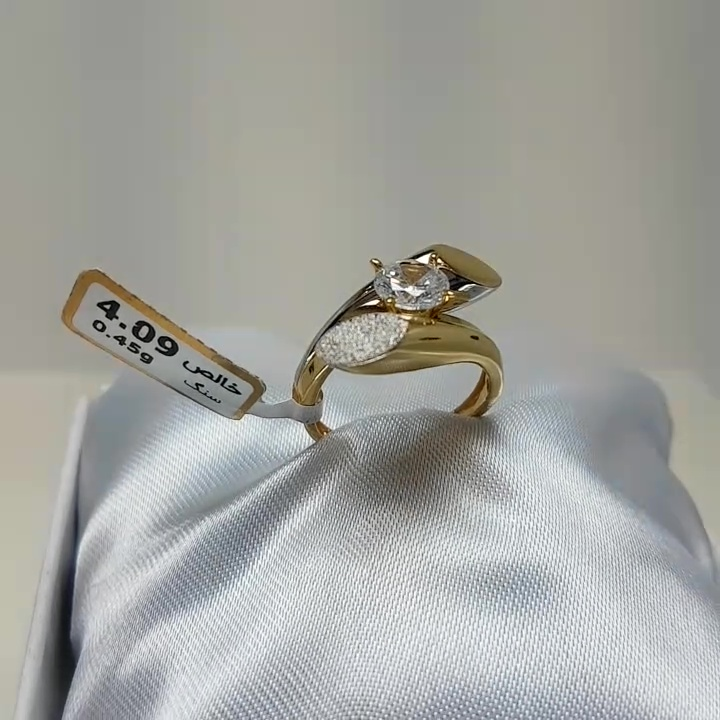Ring 7: (282, 225, 547, 468)
